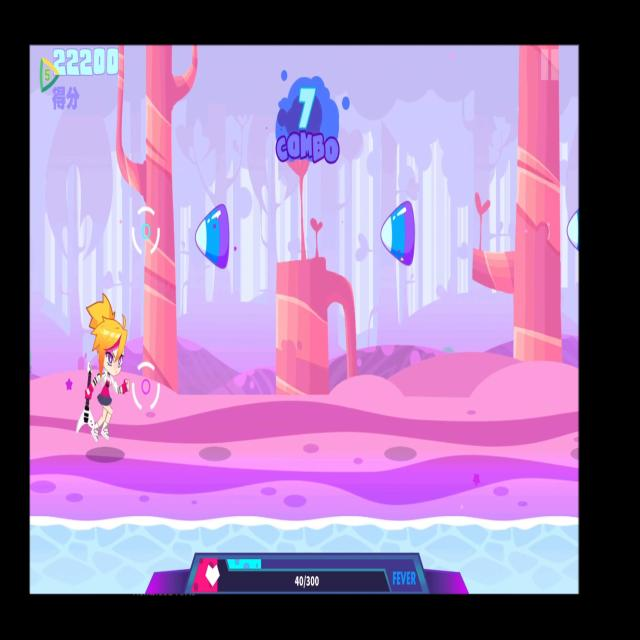Sky-Monster---Blue-Bullet: (377, 197, 419, 277), (192, 201, 235, 276)
